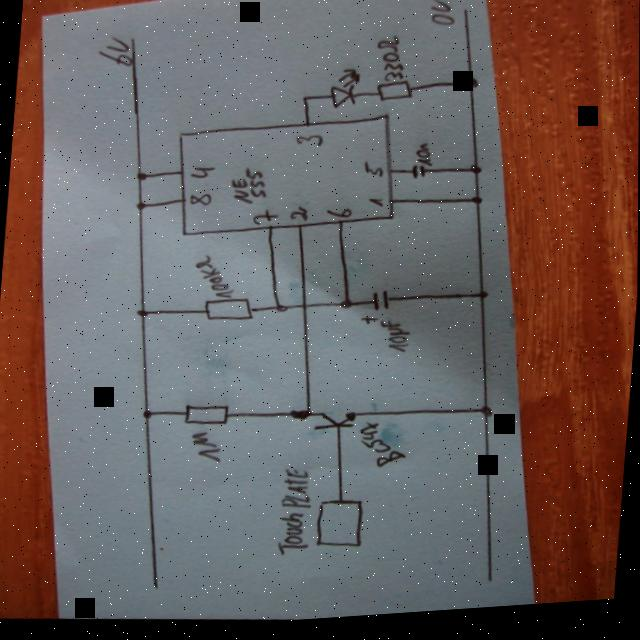capacitor: (358, 292, 390, 332), (408, 170, 426, 186)
crossover: (296, 304, 309, 316)
diode: (326, 71, 360, 116)
junction: (287, 411, 312, 426), (477, 412, 493, 426), (463, 82, 479, 96), (336, 302, 353, 315), (273, 306, 288, 318), (475, 295, 488, 308), (468, 170, 482, 182), (140, 411, 154, 423), (469, 201, 483, 212), (134, 310, 149, 320), (133, 202, 146, 213), (134, 173, 147, 184), (298, 99, 307, 107)
resistor: (201, 298, 254, 327), (180, 404, 229, 432), (373, 83, 413, 109)
terminal: (312, 500, 366, 556), (147, 582, 161, 596), (458, 11, 470, 23), (484, 580, 494, 592), (126, 36, 136, 47)
text: (274, 470, 313, 562), (355, 425, 407, 476), (191, 255, 234, 304), (227, 168, 268, 211), (372, 39, 404, 89), (375, 323, 410, 361), (187, 431, 222, 468), (95, 36, 133, 70), (426, 3, 456, 35), (250, 211, 279, 231), (293, 136, 324, 154), (412, 148, 433, 174), (186, 166, 215, 184), (186, 194, 211, 212), (323, 209, 351, 225), (360, 166, 383, 185), (288, 209, 309, 227), (365, 201, 384, 214)
transistor: (311, 412, 357, 440)
